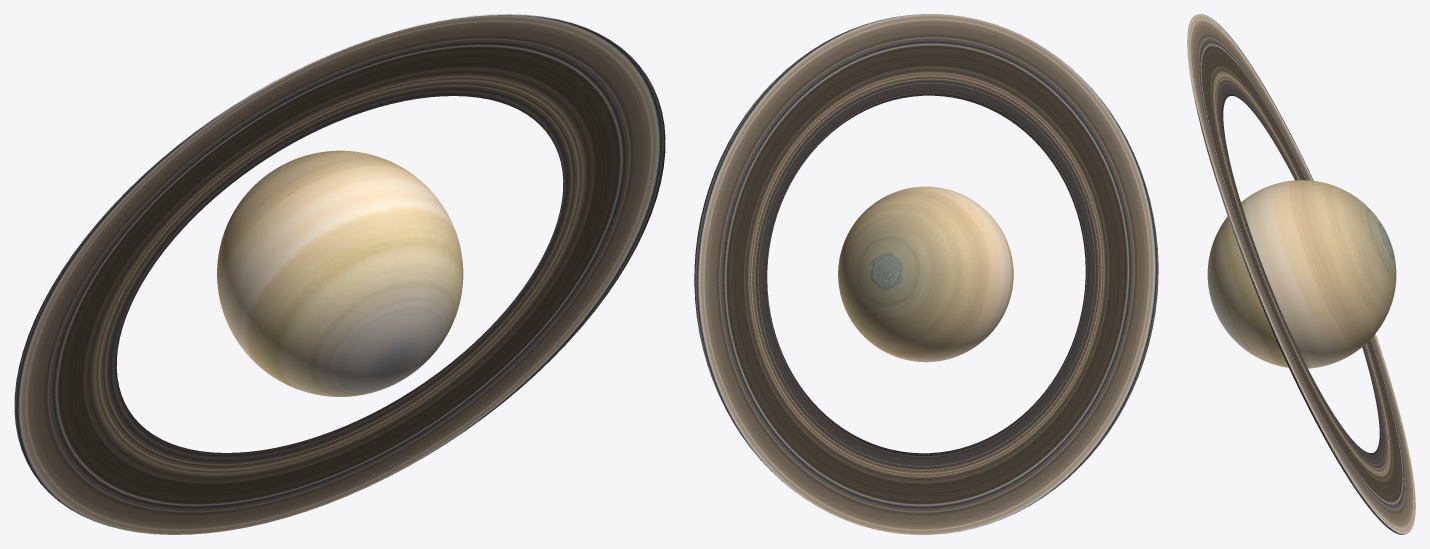
3 views of the same model, side by side, from view 1: azimuth 30°, elevation 25°; view 2: azimuth 150°, elevation 25°; view 3: azimuth 270°, elevation 25° (orthographic). The views are drawn at different scales.
Parts seen in each view (by area): view 1: Saturn_2; view 2: Saturn_2; view 3: Saturn_2.
Part boxes in pixels (box(x1,y1,x2,y2)): Saturn_2: box(14, 14, 665, 534); Saturn_2: box(694, 14, 1158, 534); Saturn_2: box(1187, 14, 1415, 534).
Size of the model in its own units: 3.32 by 3.04 by 1.36.
2 materials, 2 textured.
